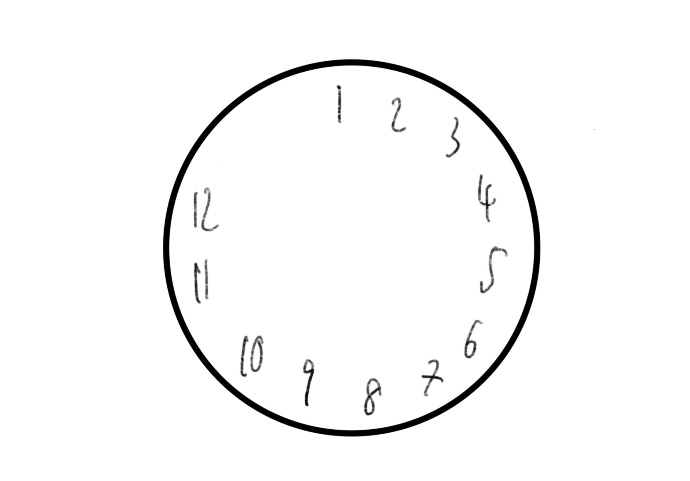eight: (359, 370, 384, 419)
eleven: (189, 254, 215, 305)
five: (476, 243, 508, 295)
four: (478, 172, 498, 222)
nine: (299, 356, 319, 408)
one: (332, 82, 346, 122)
seven: (416, 356, 444, 399)
six: (460, 316, 484, 363)
ten: (234, 331, 267, 377)
three: (443, 113, 461, 159)
twelve: (190, 188, 220, 235)
two: (388, 92, 409, 136)
